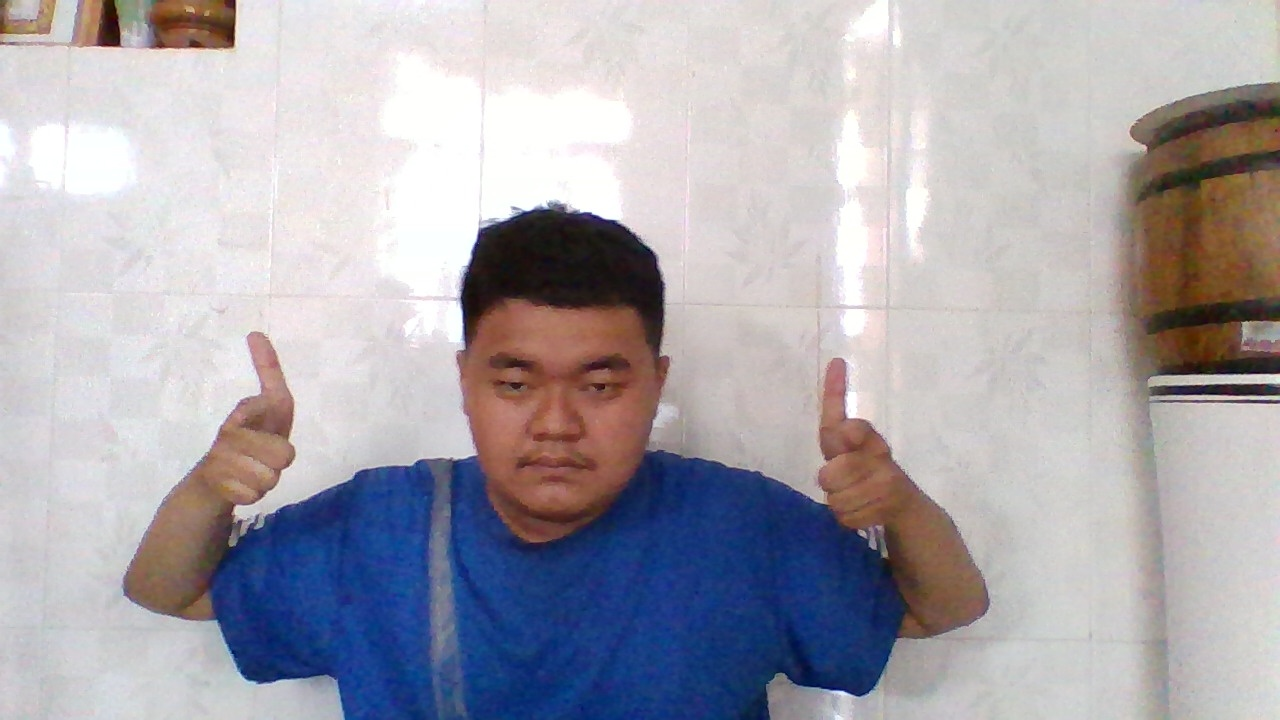G: (189, 327, 302, 513), (811, 401, 925, 537)
